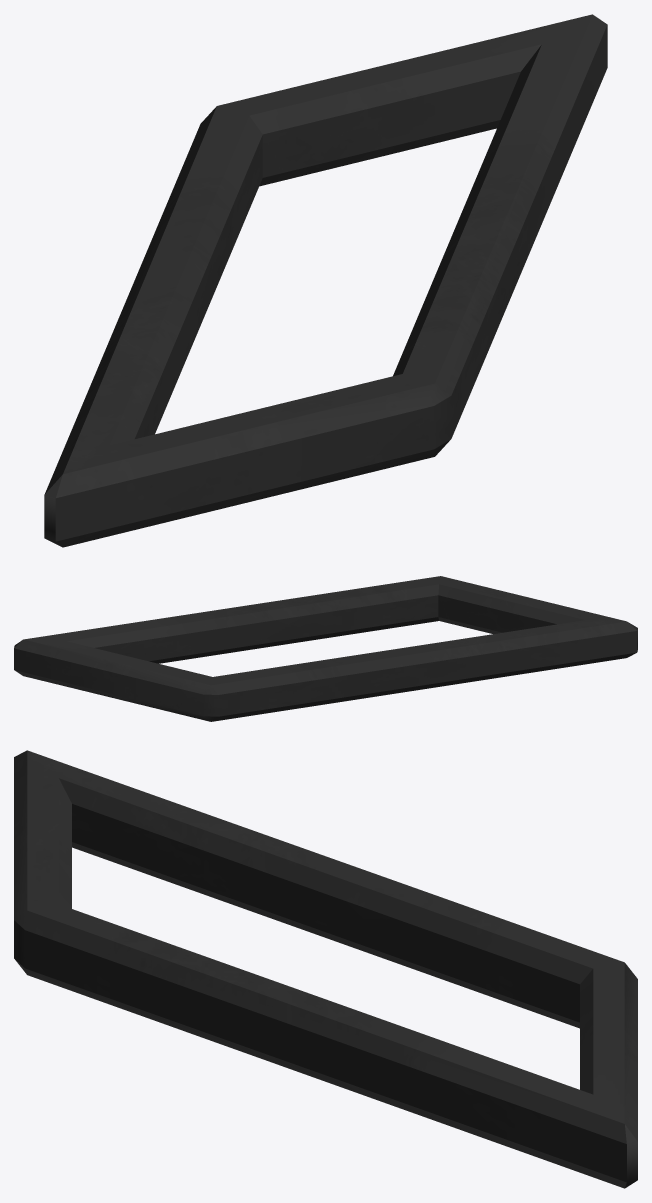
Rendered from DtGauge.fbx.
3 views of the same model, one above another, from view 1: azimuth 30°, elevation 25°; view 2: azimuth 150°, elevation 25°; view 3: azimuth 270°, elevation 25° (orthographic). The views are drawn at different scales.
Parts seen in each view (by area): view 1: LOD_1_Group_0_Sub_1__DT_out; view 2: LOD_1_Group_0_Sub_1__DT_out; view 3: LOD_1_Group_0_Sub_1__DT_out.
Part boxes in pixels (x1=…): LOD_1_Group_0_Sub_1__DT_out: x1=44, y1=14, x2=607, y2=547; LOD_1_Group_0_Sub_1__DT_out: x1=14, y1=576, x2=637, y2=721; LOD_1_Group_0_Sub_1__DT_out: x1=14, y1=750, x2=637, y2=1188.
Size of the model in its own units: 50.64 by 3.92 by 34.31.
Materials: 1 (1 with a texture image).
